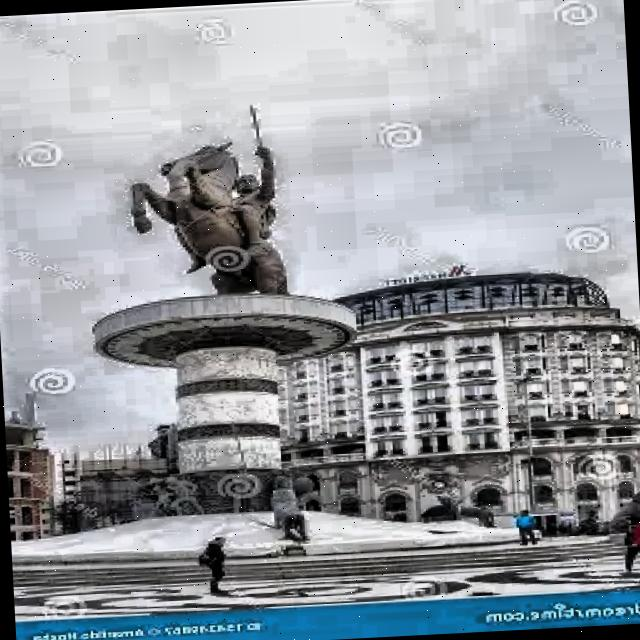alexander the great monument: (69, 86, 378, 530)
